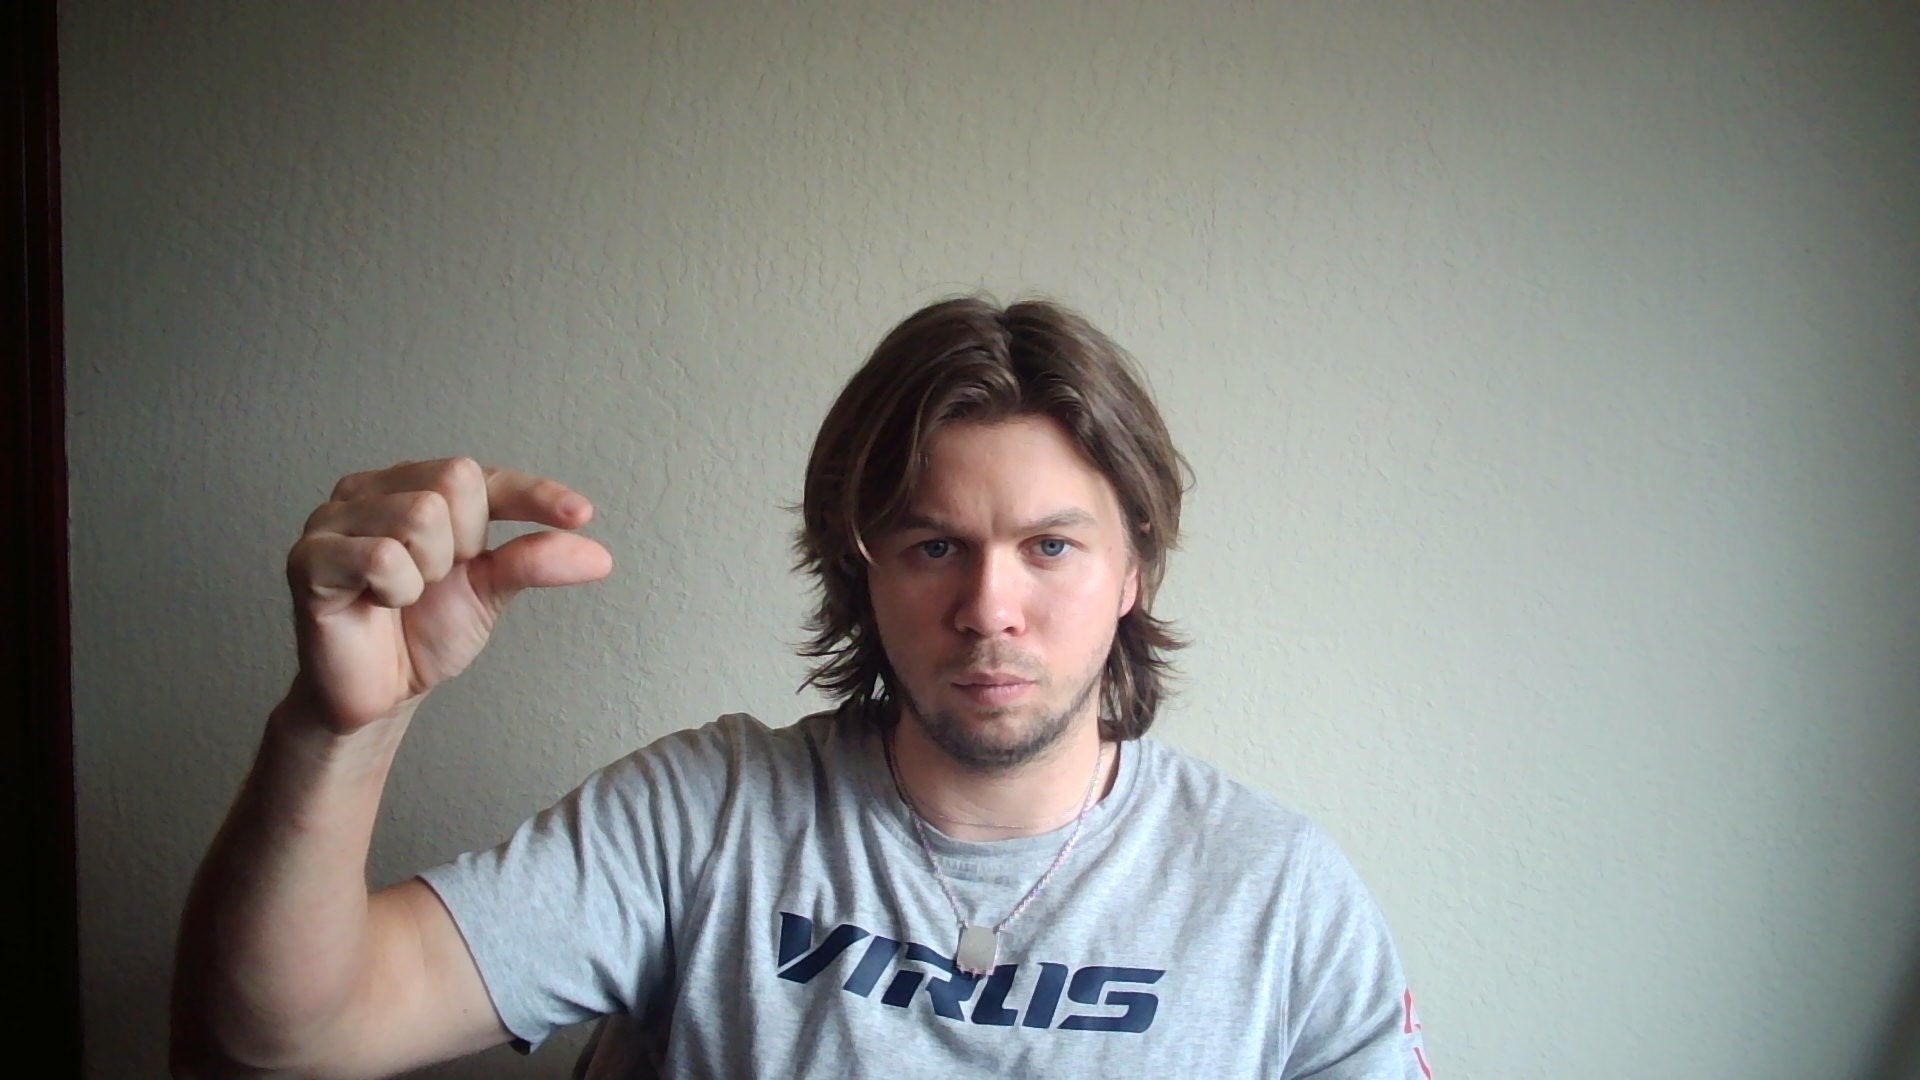small: (287, 458, 613, 723)
